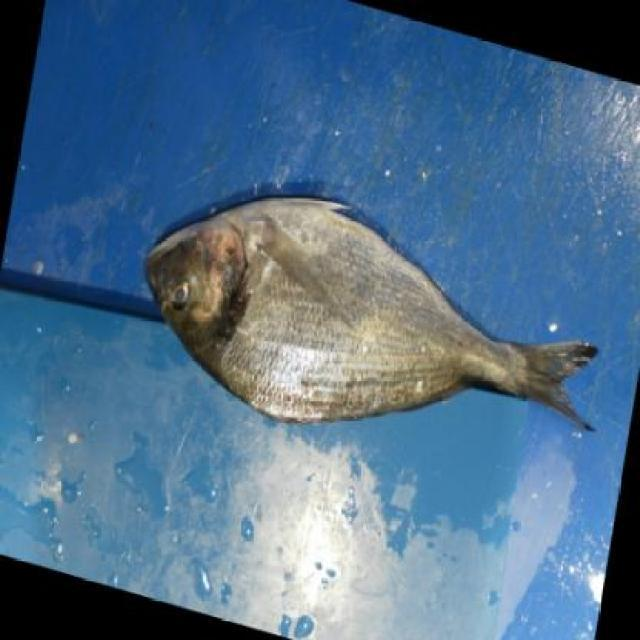Healthy Fish: (135, 187, 619, 429)
